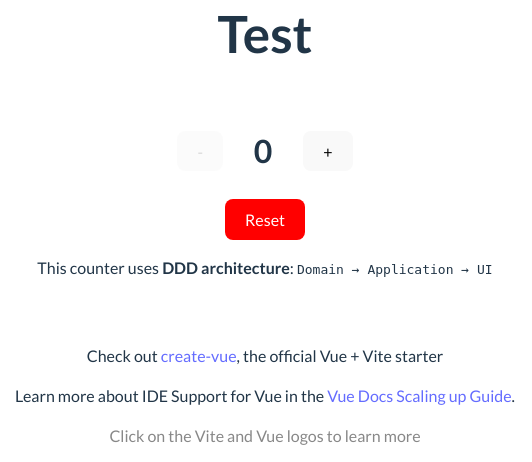
Test case: HelloWorld › decrements count when - button is clicked
// Increment to 2
Click the button "+" at (328, 151), box [303,131,353,172]
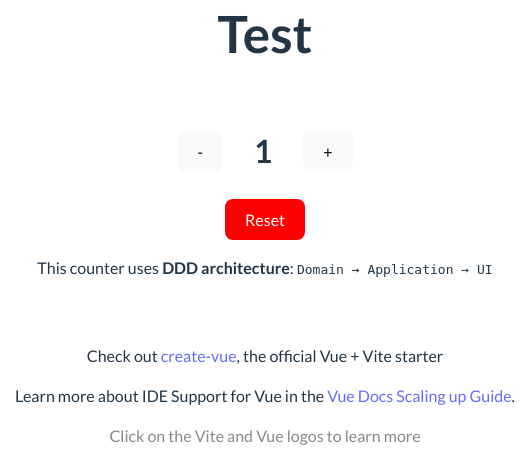
Click the button "+" at (328, 151), box [303,131,353,172]
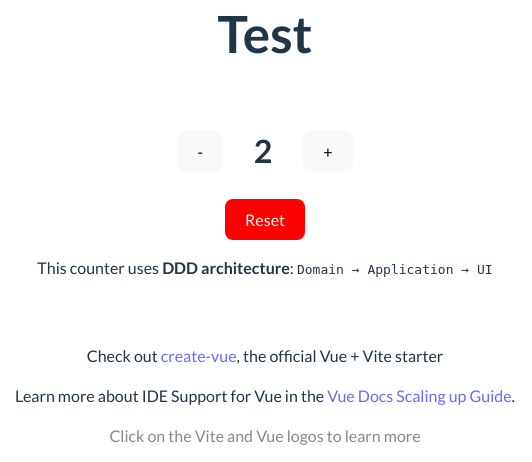
Check: the text with class "counter-display" reads "2", box [254,131,272,170]
// Decrement to 1
Click the button "-" at (200, 151), box [177,131,223,172]
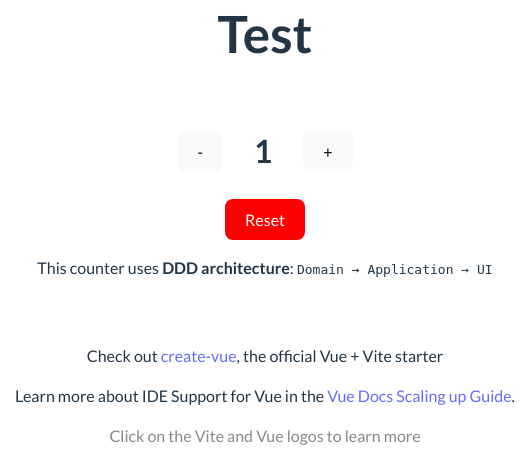
Check: the text with class "counter-display" reads "1", box [254,131,272,170]
